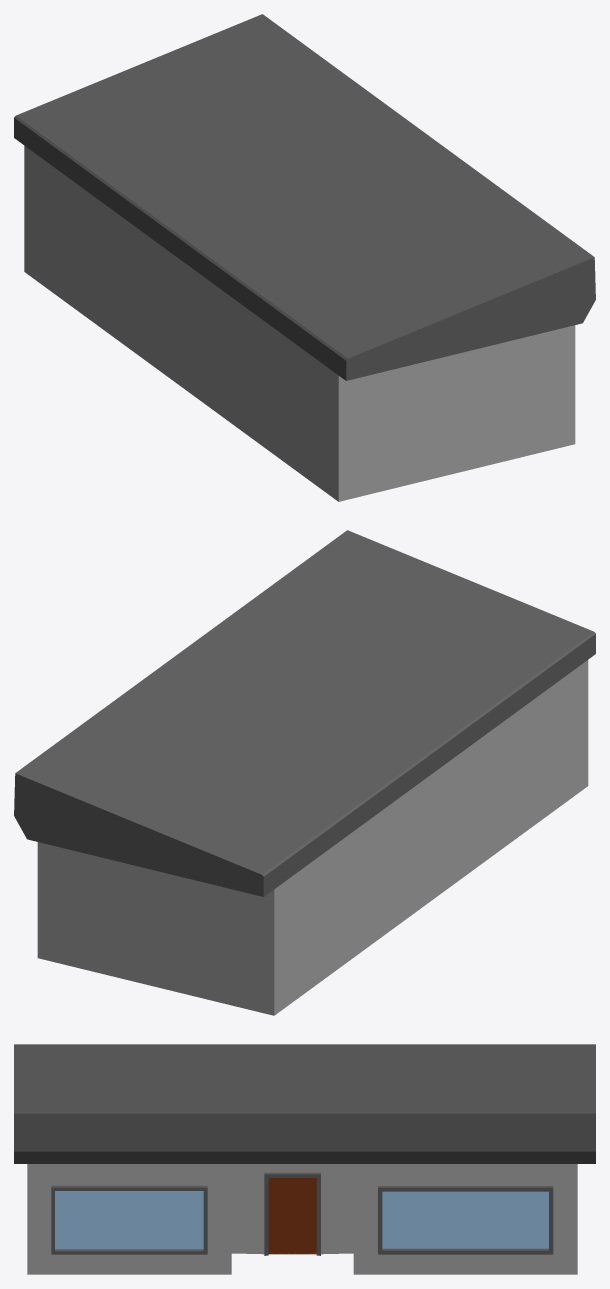
File: greyscale residential building 3.fbx
3 renders of one model, top to bottom at view 1: azimuth 30°, elevation 25°; view 2: azimuth 150°, elevation 25°; view 3: azimuth 270°, elevation 25°, orthographic. The views are drawn at different scales.
Visible parts, largest first — view 1: Cube; view 2: Cube; view 3: Cube.
Boxes of the visible parts, bbox=[...] form: Cube: bbox=[14, 14, 595, 501]; Cube: bbox=[14, 530, 595, 1015]; Cube: bbox=[14, 1044, 595, 1274].
Bounding box in the file's own units: 414 × 301 × 953.
